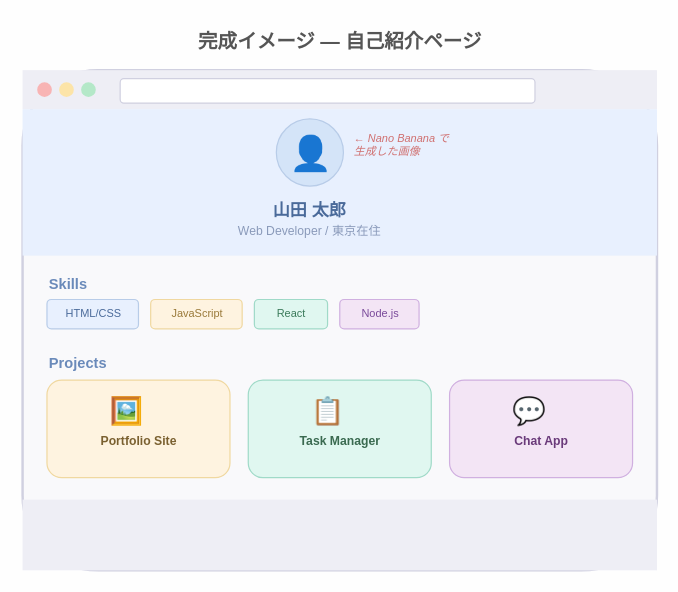
This 678x592 diagram has some shape labels left out. Here are the shapes that lost their labels. From the top down, the centre of each, then its label:
At (327,90): "localhost:3000".
At (339,534): "Contact: hello@example.com".
